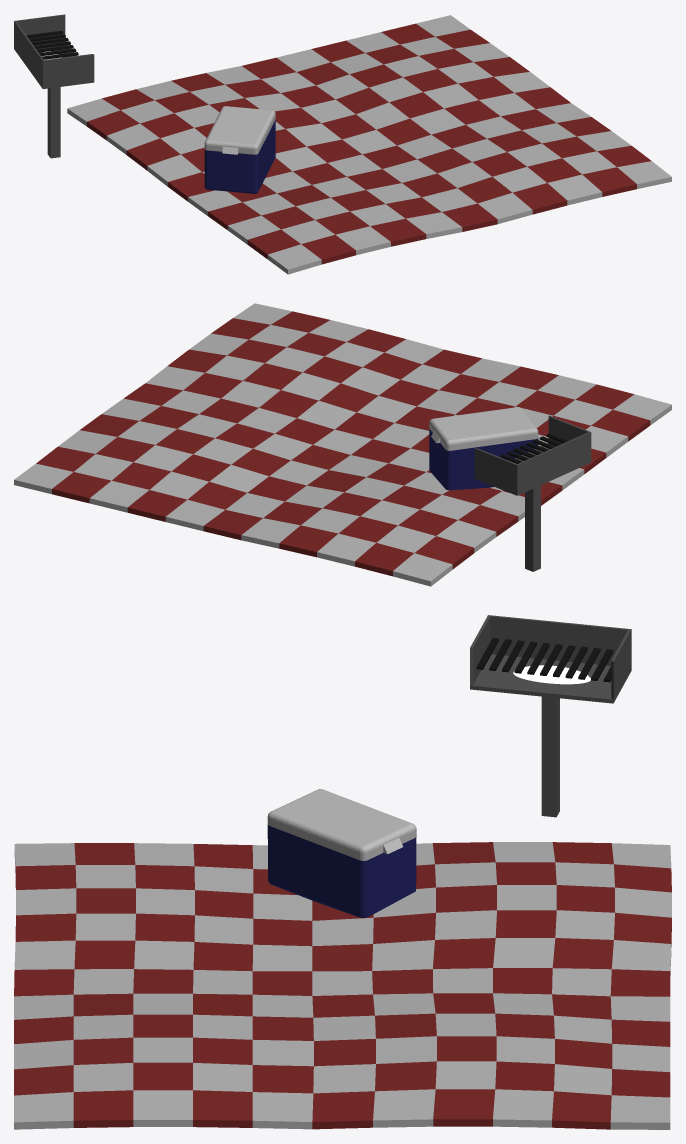
Rendered from Picnic01.fbx.
The picture shows the model from 3 angles, top to bottom: view 1: azimuth 30°, elevation 25°; view 2: azimuth 150°, elevation 25°; view 3: azimuth 270°, elevation 25°; orthographic projection. The views are drawn at different scales.
Parts seen in each view (by area): view 1: Plane, Cube, Cube.001; view 2: Plane, Cube.001, Cube; view 3: Plane, Cube, Cube.001.
Part boxes in pixels (x1=…): Plane: x1=67, y1=15, x2=671, y2=274; Cube: x1=204, y1=106, x2=275, y2=193; Cube.001: x1=14, y1=14, x2=94, y2=158; Plane: x1=14, y1=303, x2=671, y2=586; Cube.001: x1=474, y1=415, x2=591, y2=571; Cube: x1=429, y1=407, x2=538, y2=490; Plane: x1=14, y1=842, x2=671, y2=1129; Cube: x1=267, y1=789, x2=416, y2=917; Cube.001: x1=470, y1=615, x2=631, y2=817.
Bounding box in the file's own units: 1965 × 473 × 1610.
